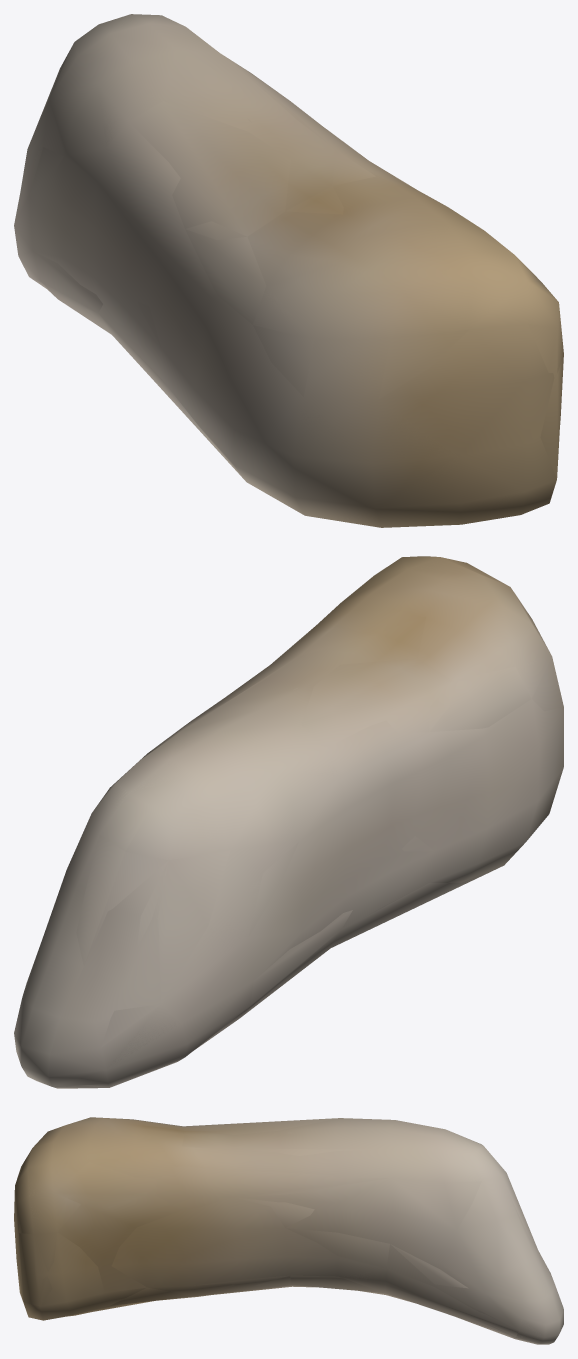
The model's file is L carpi accessorium.fbx.
3 views of the same model, one above another, from view 1: azimuth 30°, elevation 25°; view 2: azimuth 150°, elevation 25°; view 3: azimuth 270°, elevation 25° (orthographic). The views are drawn at different scales.
Visible parts, largest first — view 1: L carpi accessorium, L carpi accessorium low; view 2: L carpi accessorium, L carpi accessorium low; view 3: L carpi accessorium, L carpi accessorium low.
Part boxes in pixels (x1=…): L carpi accessorium: x1=14, y1=14, x2=563, y2=527; L carpi accessorium low: x1=21, y1=15, x2=563, y2=525; L carpi accessorium: x1=14, y1=556, x2=563, y2=1087; L carpi accessorium low: x1=53, y1=556, x2=563, y2=1088; L carpi accessorium: x1=14, y1=1117, x2=563, y2=1344; L carpi accessorium low: x1=15, y1=1118, x2=540, y2=1337.
Bounding box in the file's own units: 0.8113 × 0.9497 × 2.43.
